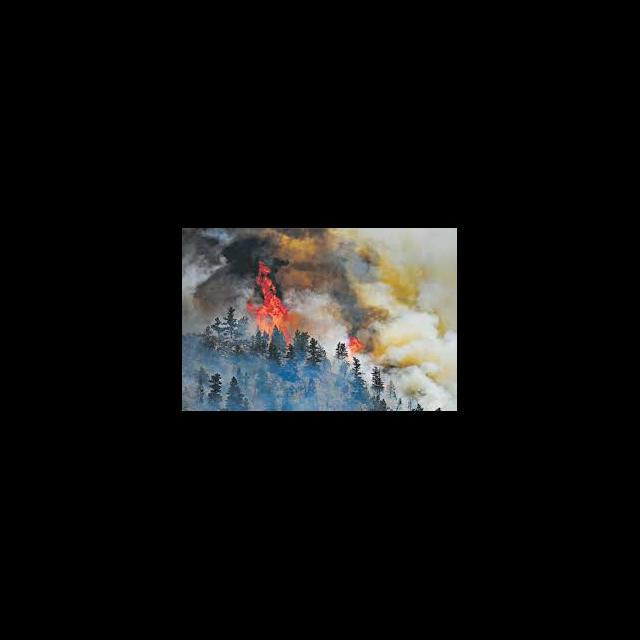Fire: (247, 262, 292, 342), (348, 336, 362, 354)
Smoke: (366, 228, 456, 410), (294, 262, 366, 332), (183, 229, 245, 307), (246, 228, 366, 260), (182, 312, 198, 411), (323, 334, 335, 349), (335, 332, 346, 340)
